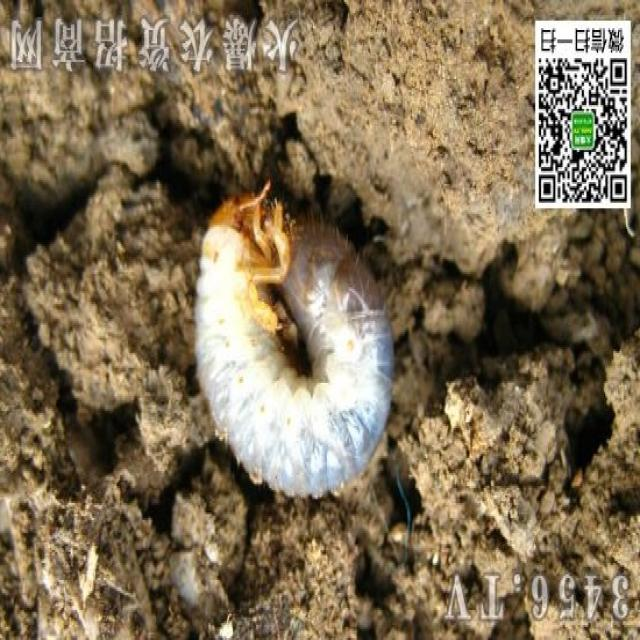grub: (196, 182, 395, 507)
